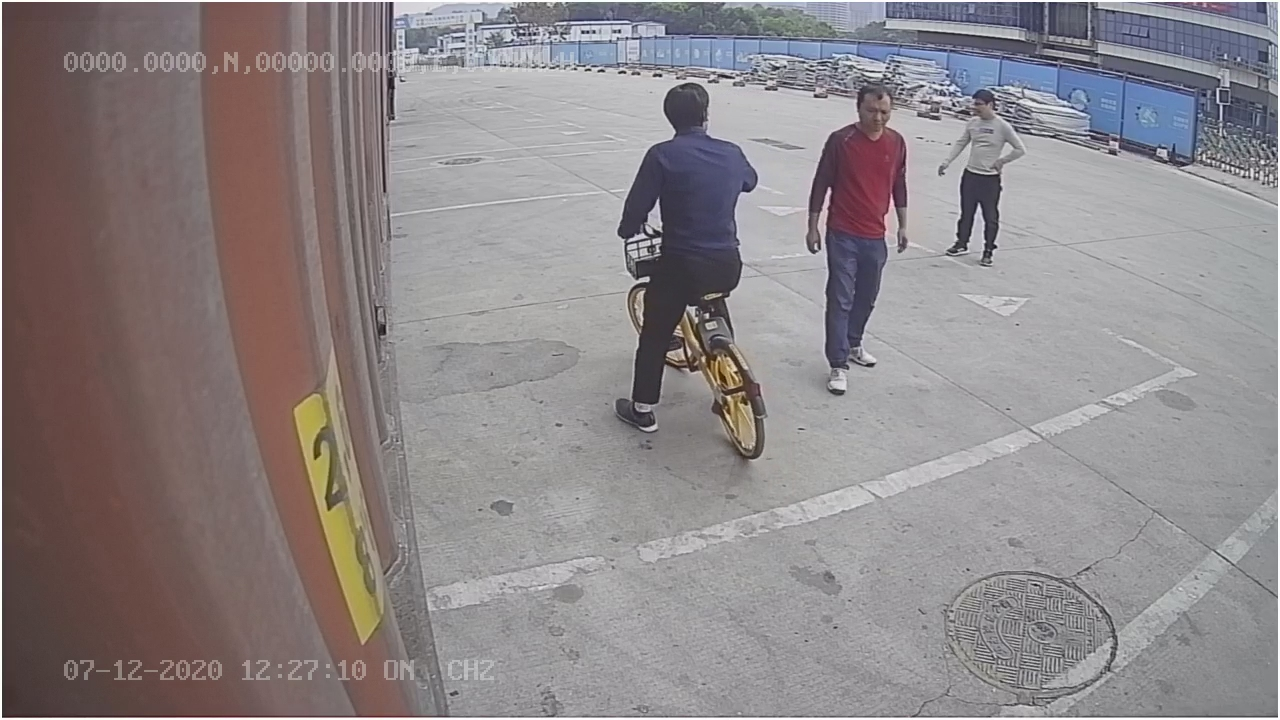person: (798, 76, 918, 399)
